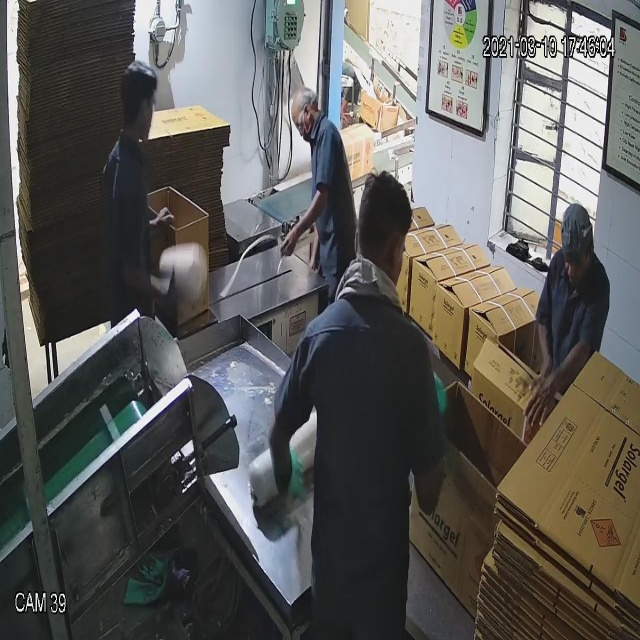Sin_guantes: (508, 337, 598, 432), (118, 241, 211, 327), (274, 179, 339, 265)
